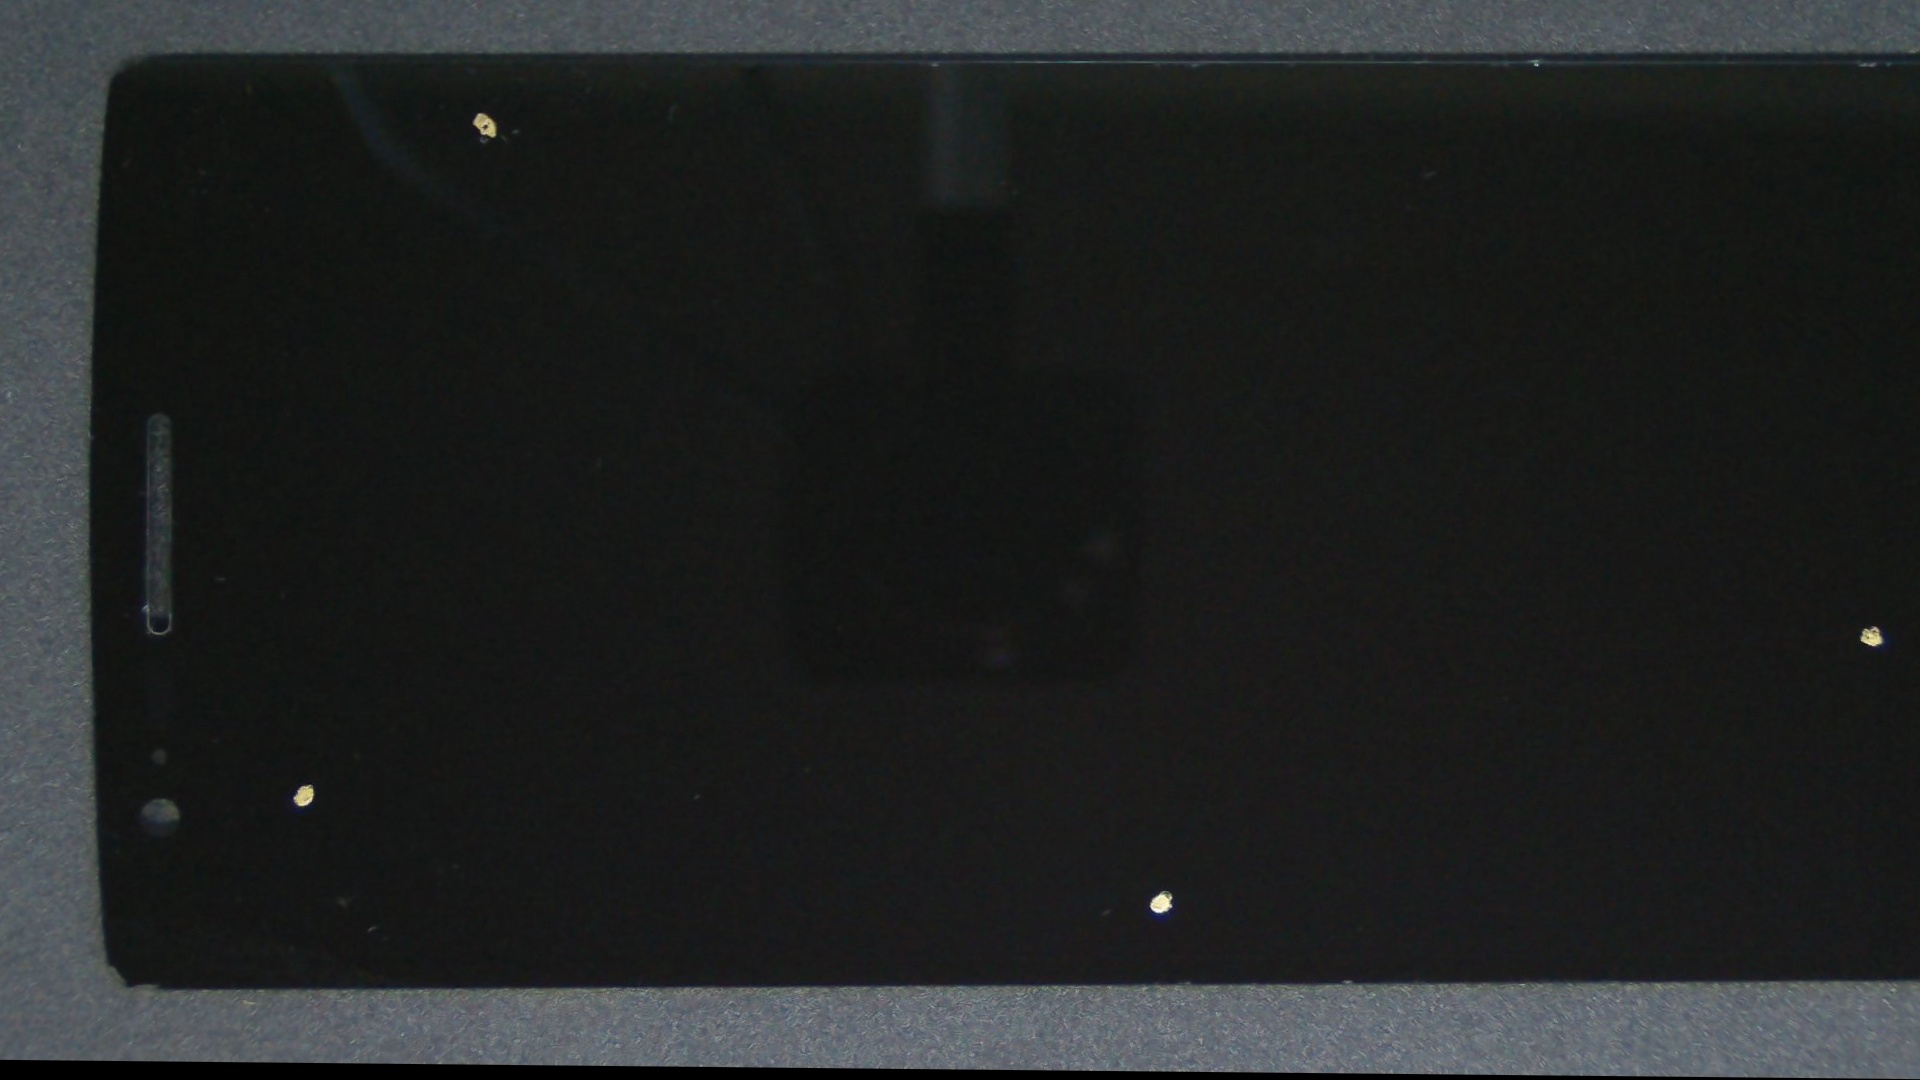oil: (554, 394, 1770, 1077), (910, 261, 1920, 978), (128, 342, 495, 1064), (220, 4, 748, 215)
